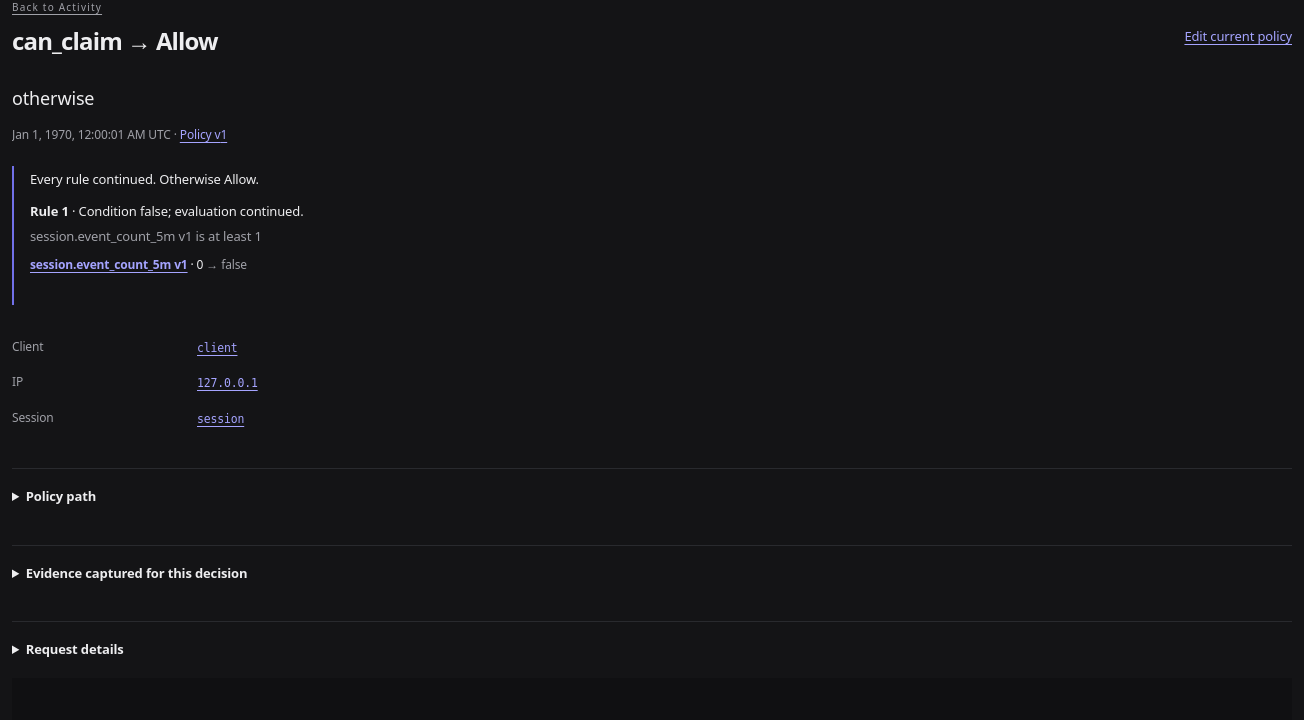
Scenario: captured evidence and verification › exposes captured provider contribution separately from current provider settings
Click the heading "Evidence captured for this decision" at (137, 573), box [26, 564, 247, 582]
(page scrolled)
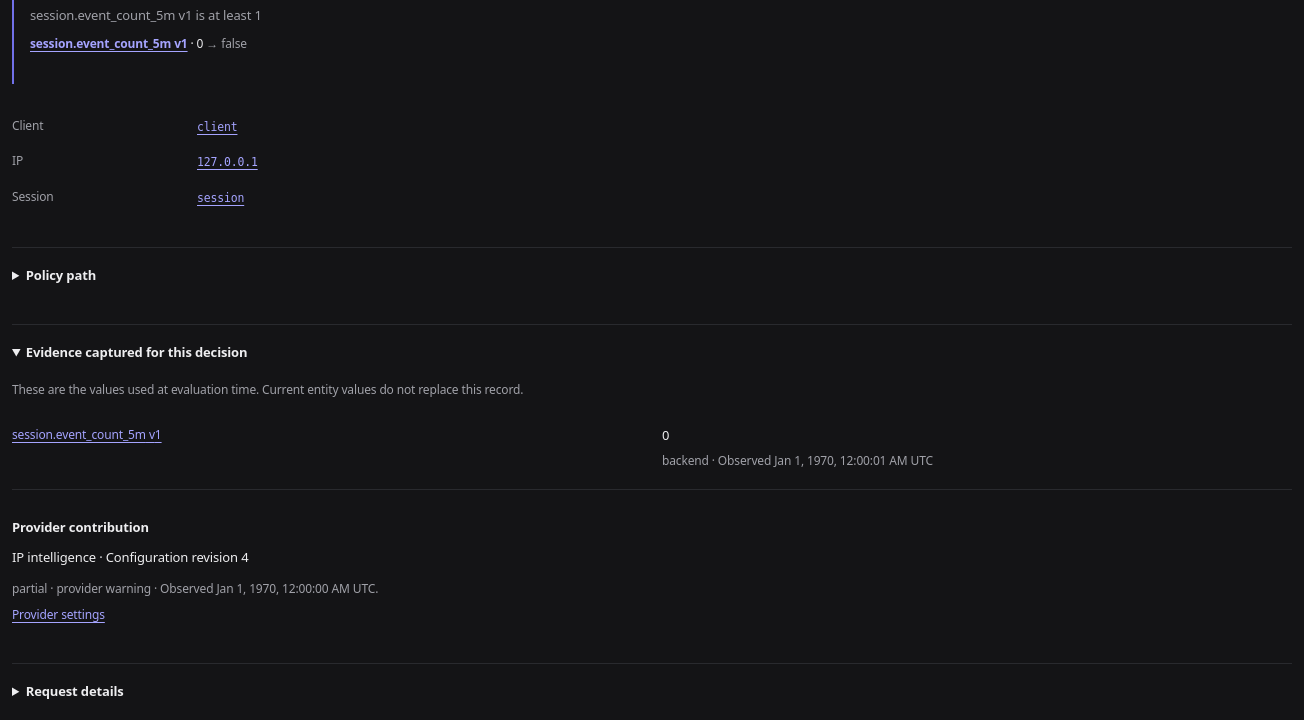
Expected: the text "IP intelligence · Configuration revision 4" is shown, [12, 548, 248, 566]
Expected: the element with id "evidence" shows "partial · provider warning", [12, 324, 1292, 643]
